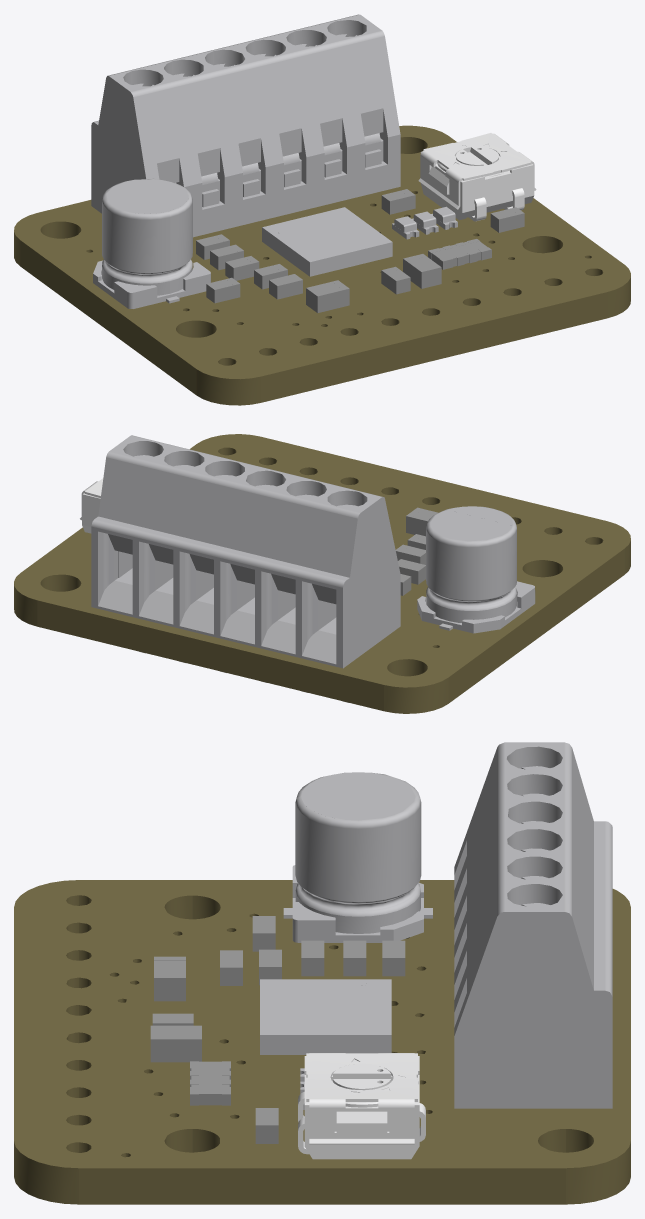
The model's file is ada-6121.glb.
The picture shows the model from 3 angles, top to bottom: view 1: azimuth 30°, elevation 25°; view 2: azimuth 150°, elevation 25°; view 3: azimuth 270°, elevation 25°; orthographic projection. The views are drawn at different scales.
Parts seen in each view (by area): view 1: 0.5833333333333334_0.5833333333333334_0.5833333333333334_0.8, 0.16666666666666666_0.16666666666666666_0.08333333333333333_, 0.3333333333333333_0.3333333333333333_0.3333333333333333_0, 0.9166666666666666_0.9166666666666666_0.9166666666666666_0.8; view 2: 0.5833333333333334_0.5833333333333334_0.5833333333333334_0.8, 0.16666666666666666_0.16666666666666666_0.08333333333333333_, 0.3333333333333333_0.3333333333333333_0.3333333333333333_0, 0.9166666666666666_0.9166666666666666_0.9166666666666666_0.8; view 3: 0.16666666666666666_0.16666666666666666_0.08333333333333333_, 0.5833333333333334_0.5833333333333334_0.5833333333333334_0.8, 0.9166666666666666_0.9166666666666666_0.9166666666666666_0.8, 0.3333333333333333_0.3333333333333333_0.3333333333333333_0.
Boxes of the visible parts, <box> form: 0.5833333333333334_0.5833333333333334_0.5833333333333334_0.8: <box>91,14,457,308</box>; 0.16666666666666666_0.16666666666666666_0.08333333333333333_: <box>14,125,630,405</box>; 0.3333333333333333_0.3333333333333333_0.3333333333333333_0: <box>196,189,524,313</box>; 0.9166666666666666_0.9166666666666666_0.9166666666666666_0.8: <box>418,133,536,221</box>; 0.5833333333333334_0.5833333333333334_0.5833333333333334_0.8: <box>91,435,535,702</box>; 0.16666666666666666_0.16666666666666666_0.08333333333333333_: <box>14,434,630,713</box>; 0.3333333333333333_0.3333333333333333_0.3333333333333333_0: <box>395,507,438,595</box>; 0.9166666666666666_0.9166666666666666_0.9166666666666666_0.8: <box>80,478,103,533</box>; 0.16666666666666666_0.16666666666666666_0.08333333333333333_: <box>14,880,630,1204</box>; 0.5833333333333334_0.5833333333333334_0.5833333333333334_0.8: <box>260,742,612,1109</box>; 0.9166666666666666_0.9166666666666666_0.9166666666666666_0.8: <box>298,1053,425,1159</box>; 0.3333333333333333_0.3333333333333333_0.3333333333333333_0: <box>150,916,405,1143</box>.
Bounding box in the file's own units: 2.67 × 1.2 × 2.41.
